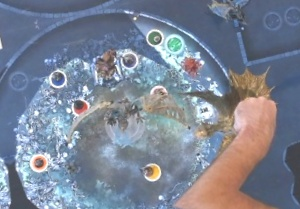blue: (45, 67, 70, 91)
green: (141, 26, 165, 50)
orange: (25, 148, 52, 176)
pink: (145, 80, 170, 105)
red: (65, 94, 90, 119)
violet: (116, 47, 141, 71)
yellow: (138, 159, 162, 184)
